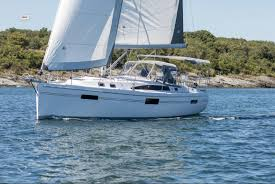boat: (22, 1, 212, 125)
